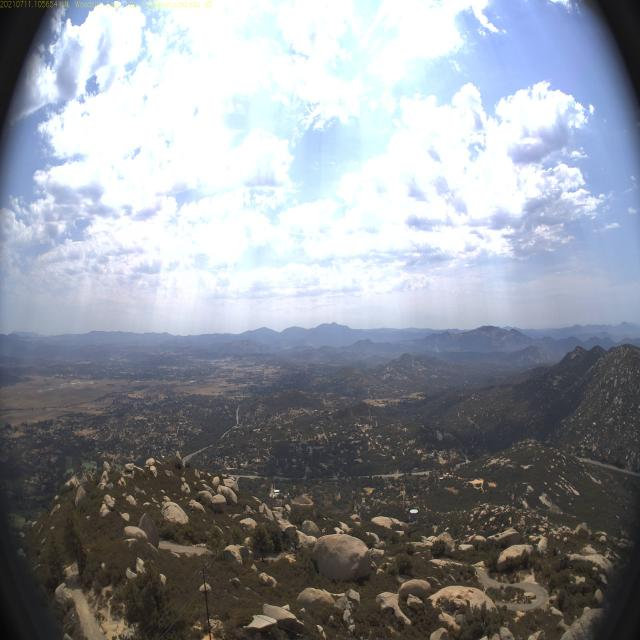smoke: (413, 342, 444, 356)
